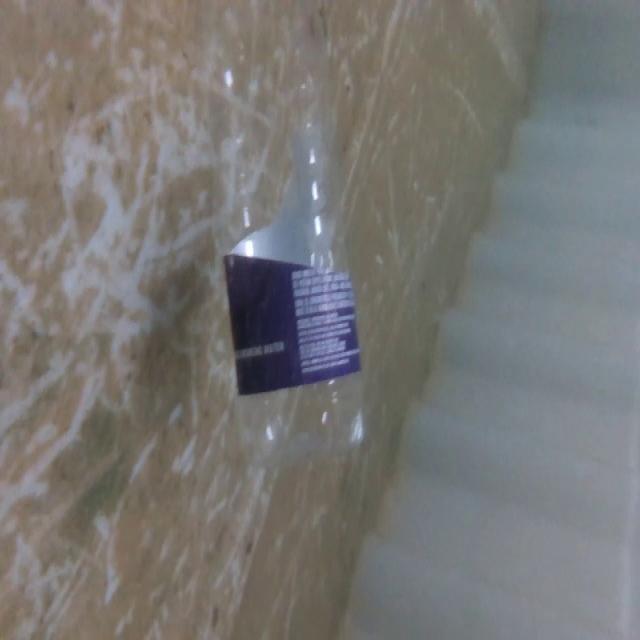plastic bottle: (170, 0, 372, 465)
